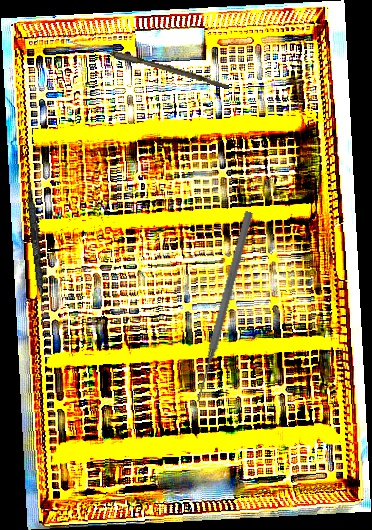Pusher: (192, 210, 255, 404)
Spatula Surgical: (22, 169, 50, 326)
Surgical Spoon: (68, 38, 231, 90)
